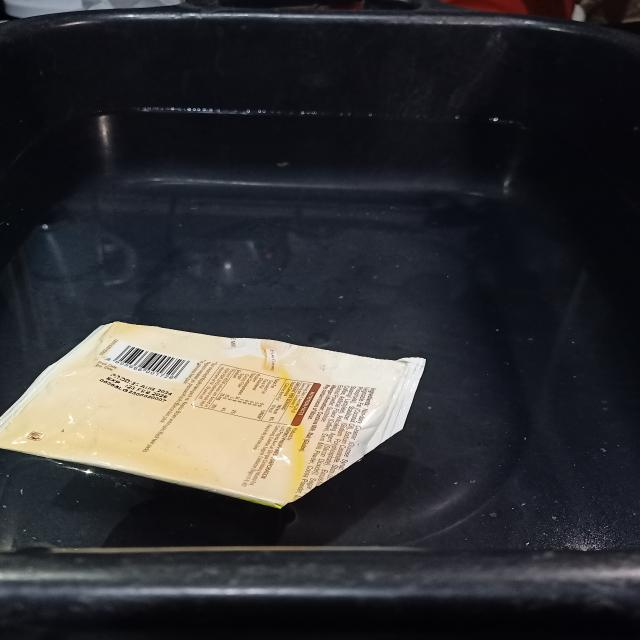Plastic Wrapper: (0, 322, 425, 508)
